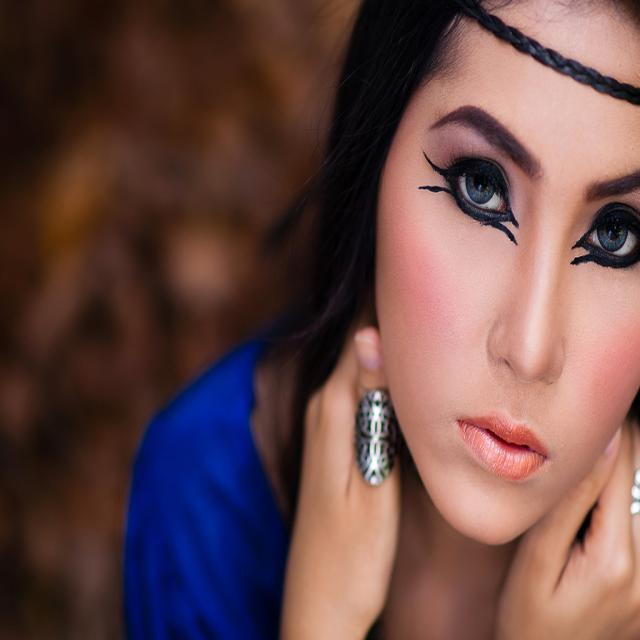closed-mouth: (458, 394, 547, 482)
